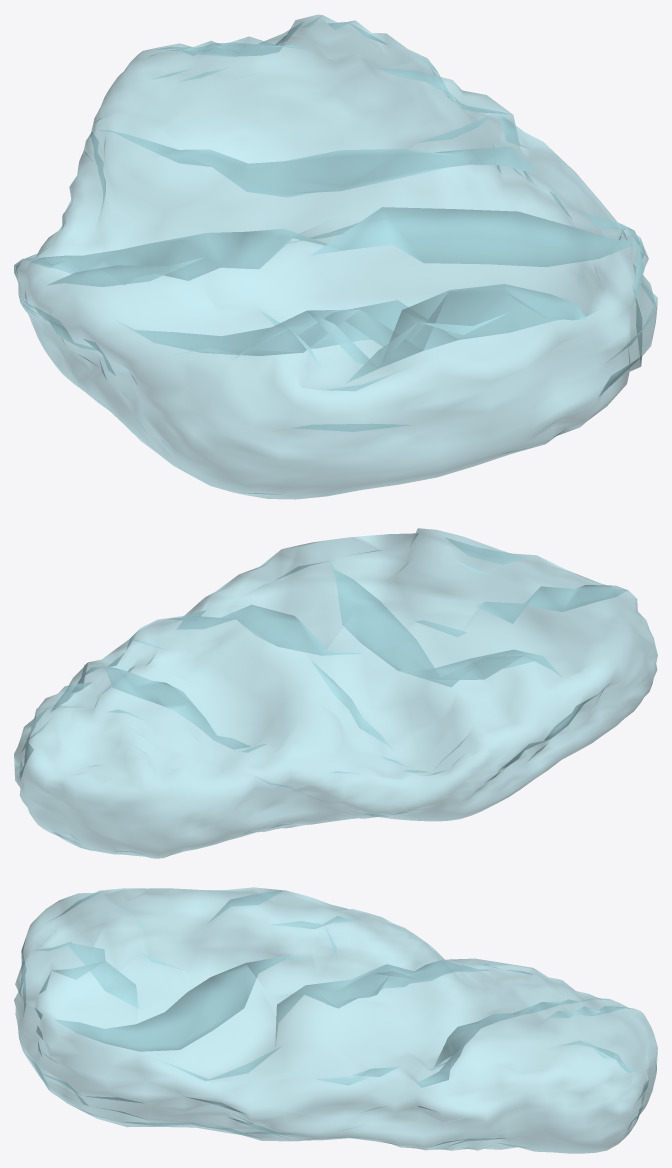
The model's file is VakolaMain_Solo.glb.
The picture shows the model from 3 angles, top to bottom: view 1: azimuth 30°, elevation 25°; view 2: azimuth 150°, elevation 25°; view 3: azimuth 270°, elevation 25°; orthographic projection. The views are drawn at different scales.
Parts seen in each view (by area): view 1: Vakuola Main; view 2: Vakuola Main; view 3: Vakuola Main.
Part boxes in pixels (x1,y1,x2,y2): Vakuola Main: [14, 14, 657, 499]; Vakuola Main: [14, 528, 657, 858]; Vakuola Main: [14, 887, 657, 1153].
Bounding box in the file's own units: 1.01 × 0.3324 × 1.38.
